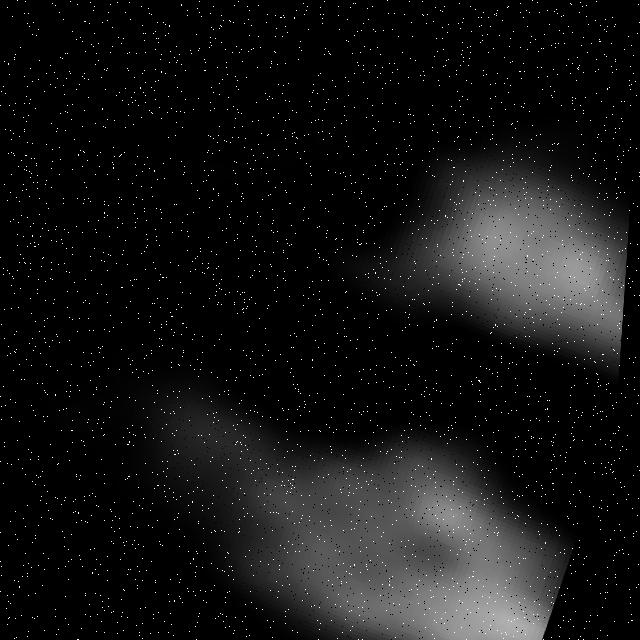person: (33, 300, 609, 640), (286, 93, 637, 396)
